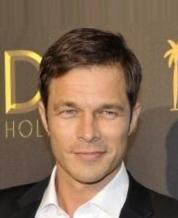face: (53, 100, 126, 160)
